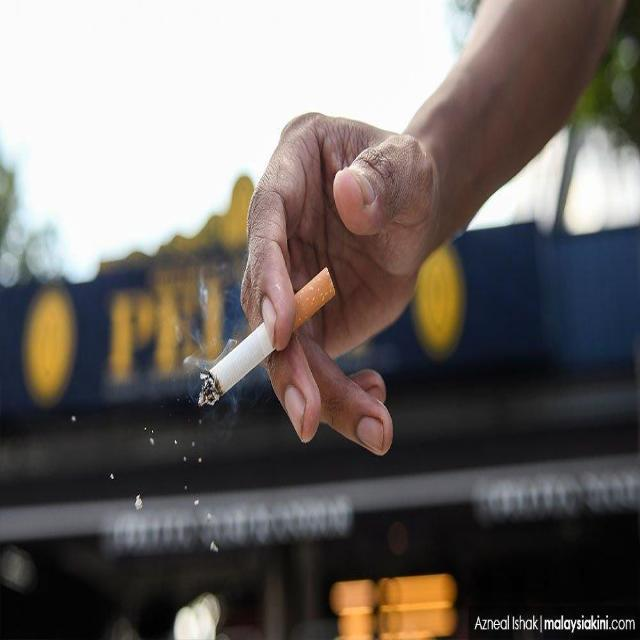Cigarette: (179, 270, 354, 414)
